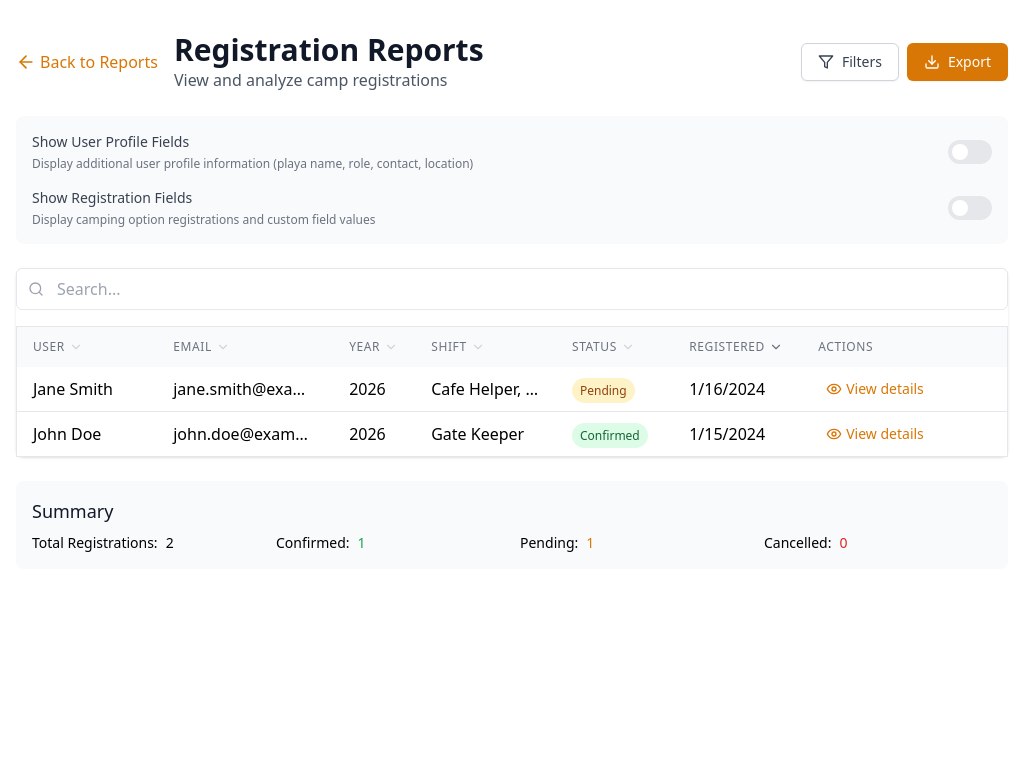
Test case: RegistrationReportsPage › Camping Option Custom Fields › should render registration fields when registration is closed
This screenshot has width=1024, height=768.
Expected: the text "Show Registration Fields" is shown, left=32, top=188, right=192, bottom=207
Click the button with id "camping-options-toggle" at (970, 208), box left=948, top=196, right=992, bottom=220
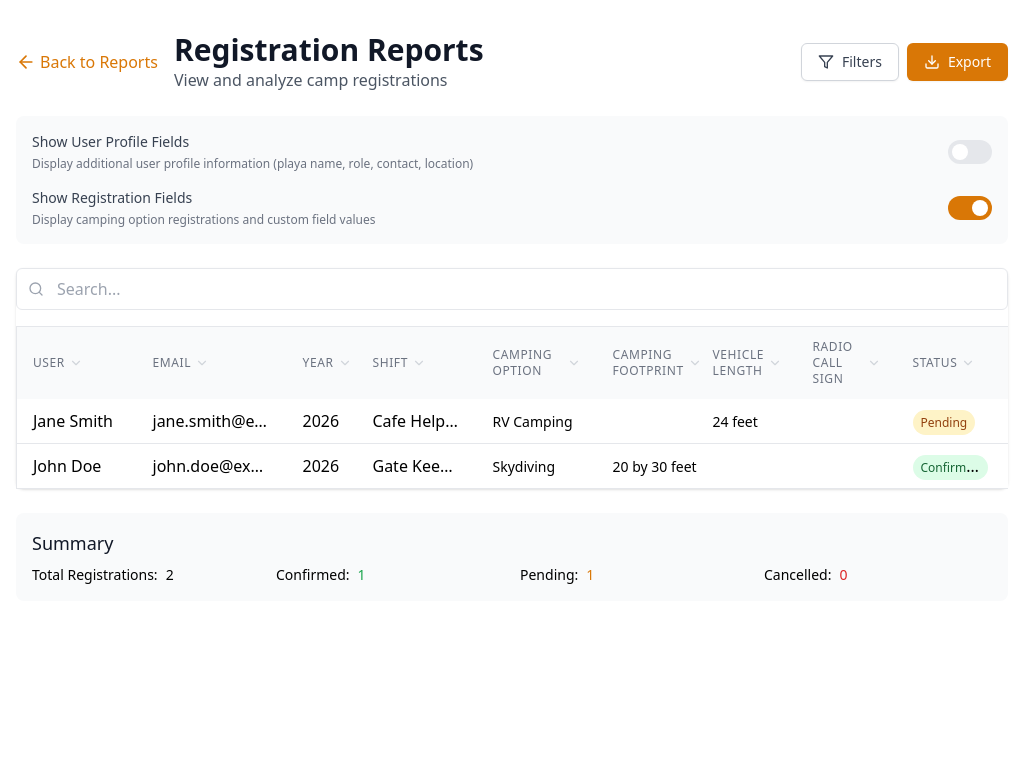
Expected: the text "20 by 30 feet" is shown, left=612, top=457, right=696, bottom=476
Expected: the text "24 feet" is shown, left=712, top=412, right=758, bottom=431
